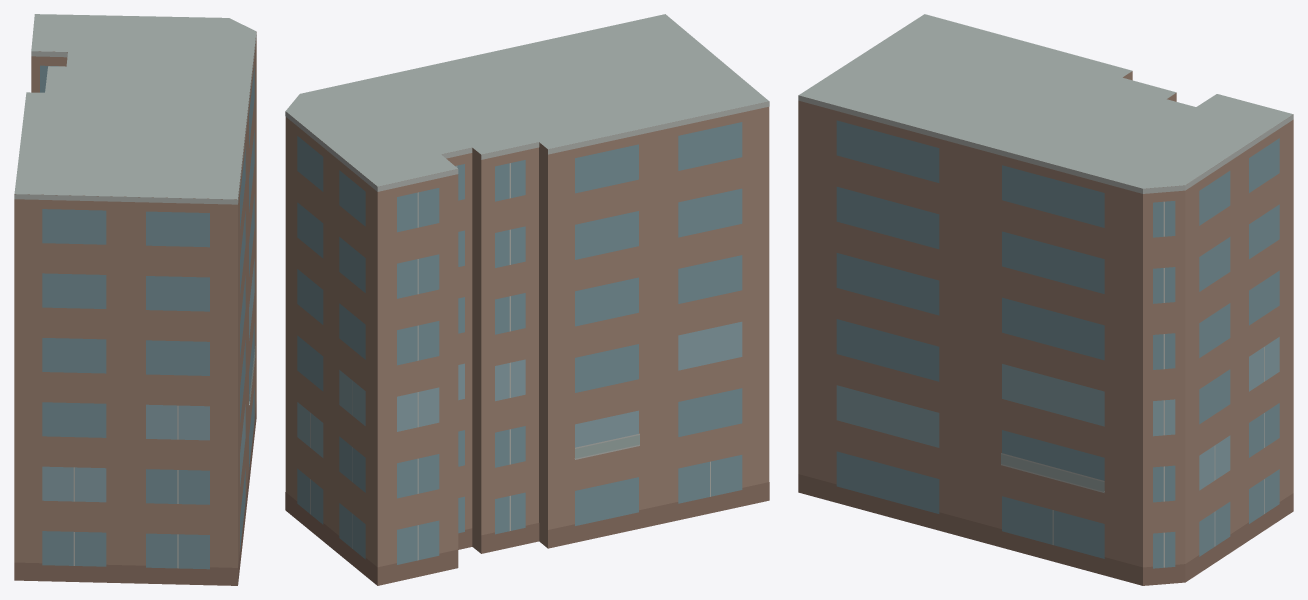
The model's file is survey-upis-32738012.glb.
The picture shows the model from 3 angles, left to right: view 1: azimuth 30°, elevation 25°; view 2: azimuth 150°, elevation 25°; view 3: azimuth 270°, elevation 25°; orthographic projection. The views are drawn at different scales.
Visible parts, largest first — view 1: survey-upis-32738012.tmp; view 2: survey-upis-32738012.tmp; view 3: survey-upis-32738012.tmp.
Boxes of the visible parts, x1,y1,x2,y2 form: survey-upis-32738012.tmp: (14,14,256,585); survey-upis-32738012.tmp: (285,14,769,585); survey-upis-32738012.tmp: (798,14,1293,585).
Size of the model in its own units: 17.27 by 18.3 by 20.68.
